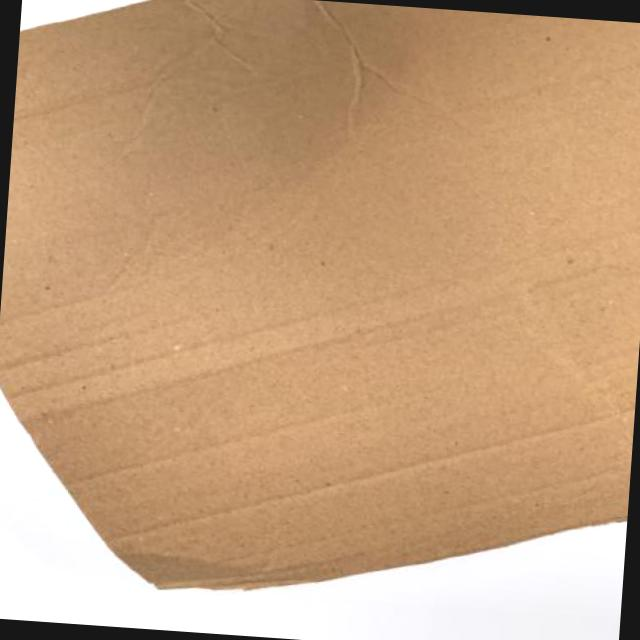cardboard: (0, 0, 639, 587)
